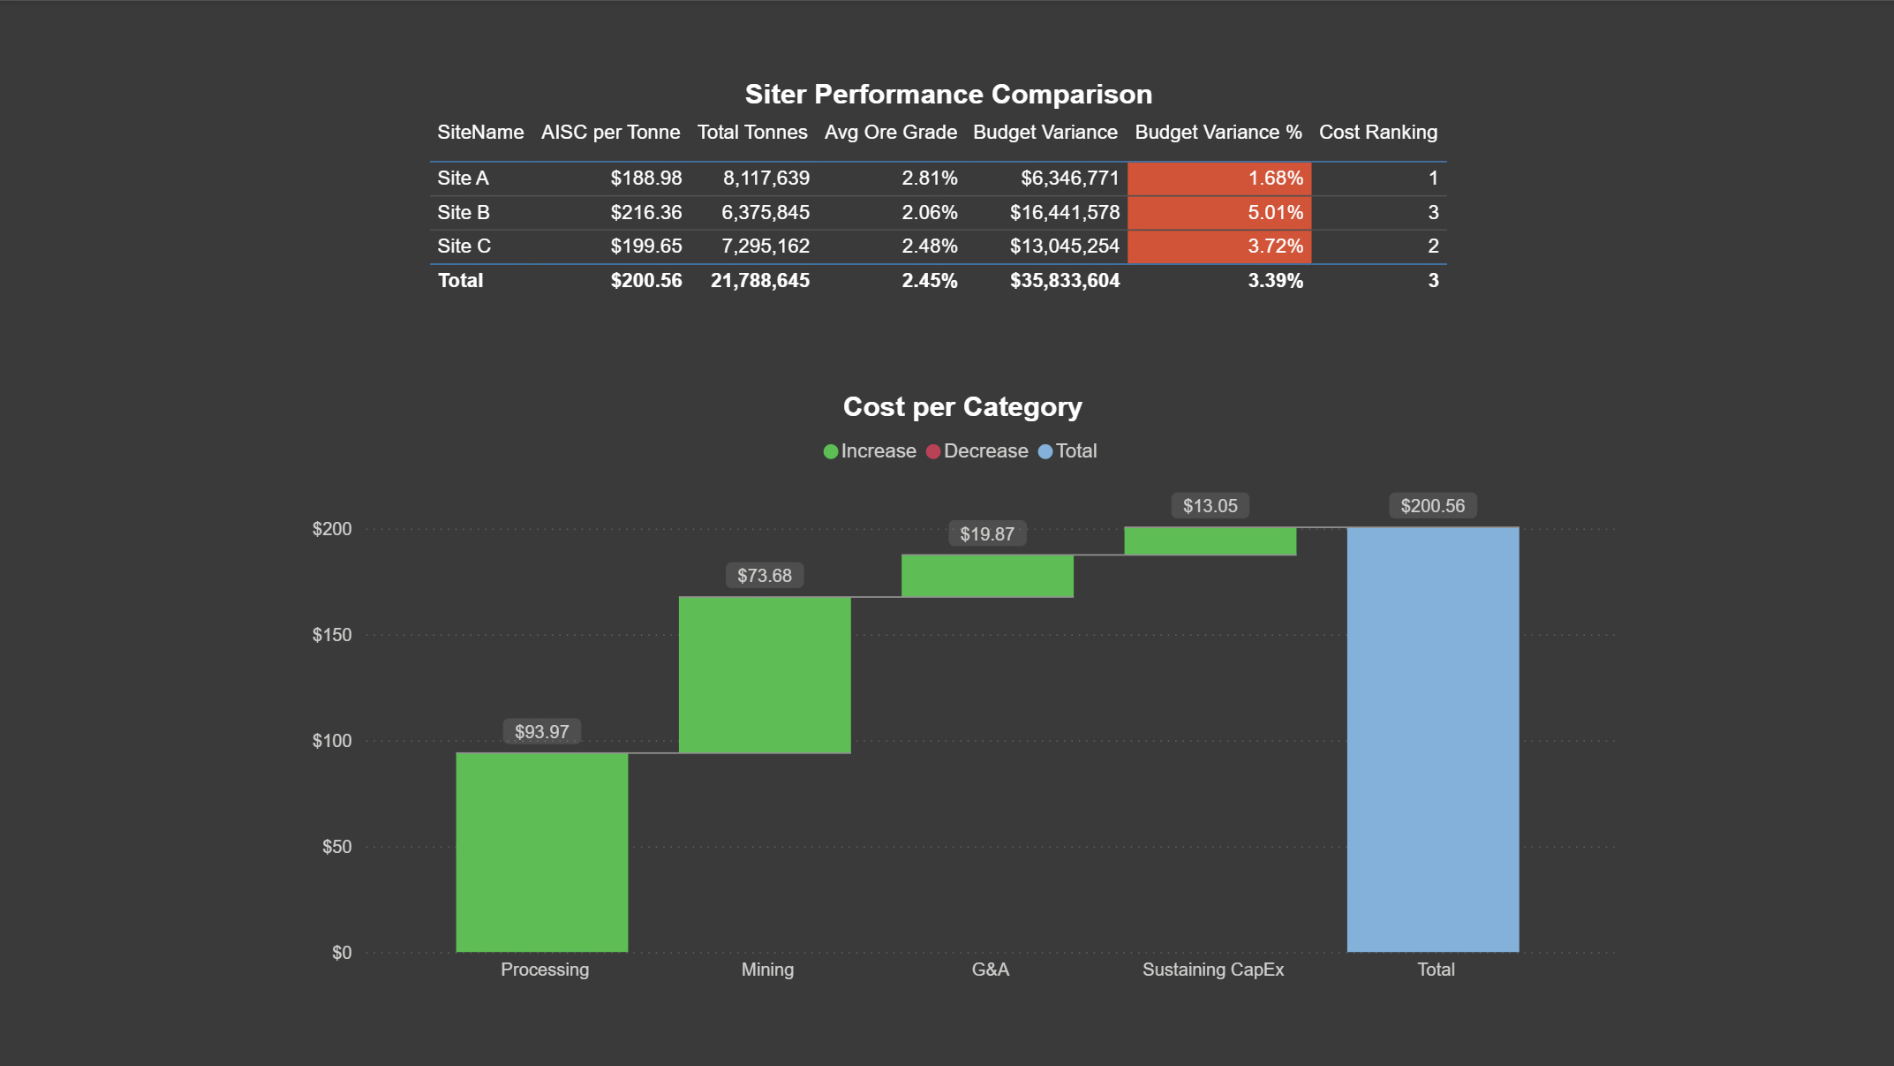

This screenshot's page, from the dashboard's own definition file:
{"tool":"powerbi","page":{"name":"Site Performance","canvas":[1280,720],"ordinal":1},"visuals":[{"type":"waterfallChart","title":"Cost per Category","fields":{"Category":["DimCostCategory.CostCategoryName"],"Y":["FactCosts.Cost per Category"]},"box":[206.2,262.5,887.5,406.2],"z":0},{"type":"tableEx","title":"Siter Performance Comparison","fields":{"Values":["DimSite.SiteName","FactCosts.AISC per Tonne","FactCosts.Total Tonnes","FactCosts.Avg Ore Grade","FactCosts.Budget Variance","FactCosts.Budget Variance %","FactCosts.Cost Ranking"]},"box":[283.8,52.5,711.2,163.8],"z":1000}]}

Visuals, with their boxes in screenshot pixels (x1, y1, x2, y2), scaled from the page's 1280x720 canvas onto the 1894x1066 screenshot:
"Cost per Category" waterfallChart: [305, 389, 1618, 990]
"Siter Performance Comparison" tableEx: [420, 78, 1472, 320]
